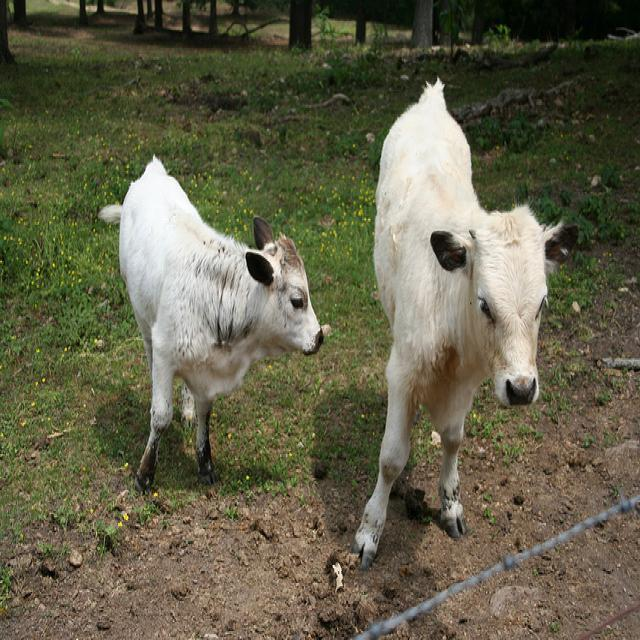cow: (353, 81, 567, 566), (96, 148, 324, 493)
